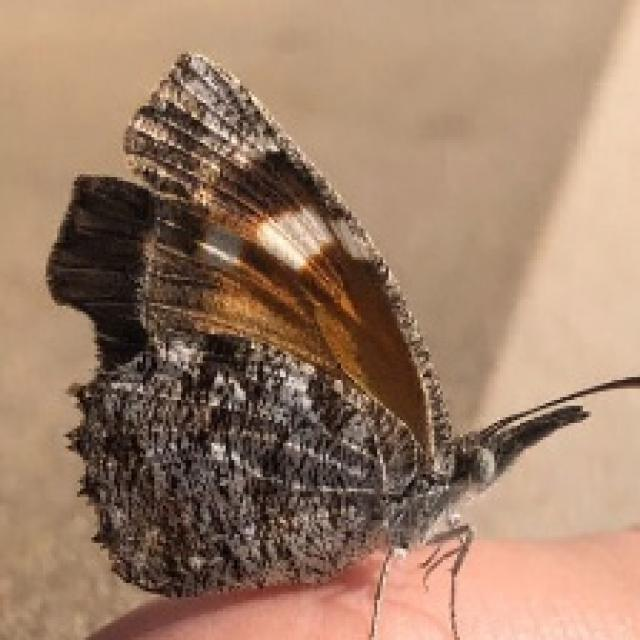butterfly: (43, 46, 637, 637)
